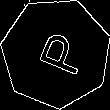P_W: (26, 26, 86, 79)
